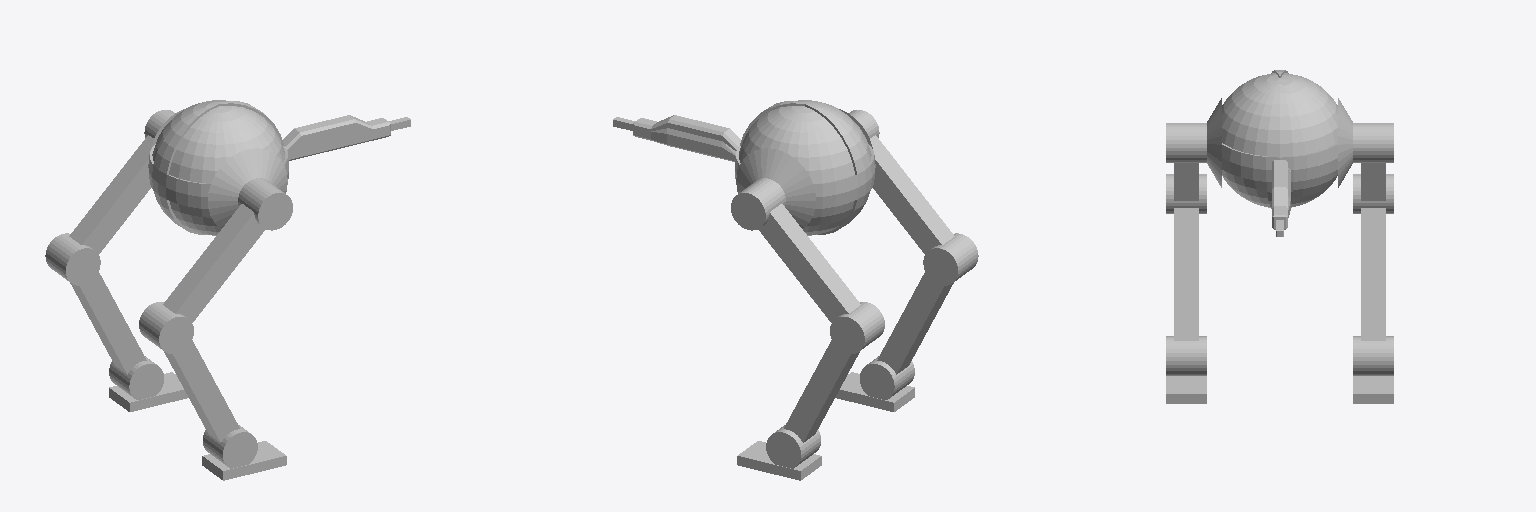
File: Robot_enemy1.obj
3 renders of one model, left to right at view 1: azimuth 30°, elevation 25°; view 2: azimuth 150°, elevation 25°; view 3: azimuth 270°, elevation 25°, orthographic.
Visible parts, largest first — view 1: Sphere, Cube.001, Cube.002, Cylinder.002, Cylinder, Cube.003, Cylinder.001, Cube; view 2: Sphere, Cube.001, Cube.002, Cylinder.002, Cylinder, Cube.003, Cylinder.001, Cube; view 3: Sphere, Cube.002, Cylinder.002, Cylinder.001, Cube, Cube.001, Cylinder, Cube.003.
Part boxes in pixels (x1,y1,x2,y2): Sphere: (148,100,288,235); Cube.001: (69,135,265,322); Cube.002: (70,272,239,442); Cylinder.002: (144,109,292,230); Cylinder: (45,233,193,353); Cube.003: (283,115,410,160); Cylinder.001: (109,356,257,468); Cube: (109,372,286,480); Sphere: (735,100,875,235); Cube.001: (758,135,954,322); Cube.002: (784,272,953,442); Cylinder.002: (731,109,879,230); Cylinder: (830,233,978,353); Cube.003: (613,115,740,161); Cylinder.001: (766,356,914,468); Cube: (737,372,914,480); Sphere: (1222,70,1337,208); Cube.002: (1174,208,1385,340); Cylinder.002: (1166,98,1393,187); Cylinder.001: (1166,336,1393,375); Cube: (1166,376,1393,403); Cube.001: (1174,163,1385,200); Cylinder: (1166,174,1393,213); Cube.003: (1272,160,1290,236).
Size of the model in its own units: 6.17 by 6.18 by 3.97.